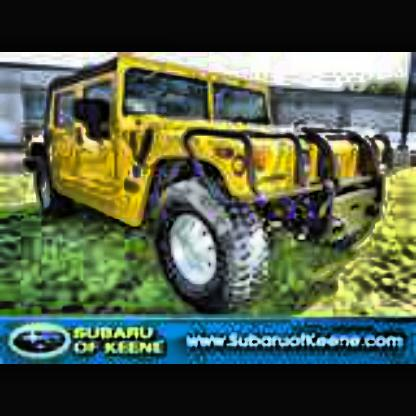AM General Hummer SUV 2000: (25, 56, 396, 321)
